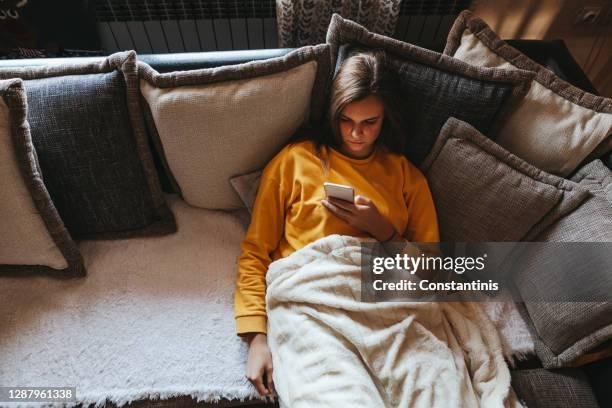blanket: (264, 232, 531, 408)
sweater: (235, 137, 442, 336)
